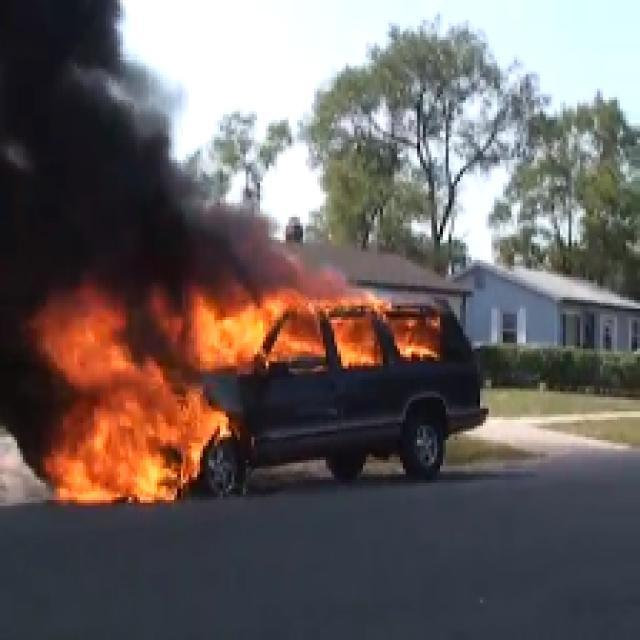Fire: (52, 306, 427, 486)
Smoke: (3, 0, 136, 295), (143, 200, 274, 292)
